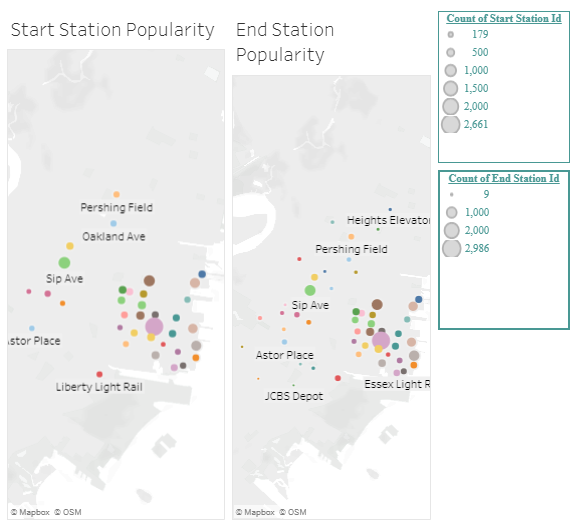

The dashboard page shown, as its layout file describes it:
{"tool":"tableau","page":{"name":"Start/End Stations","canvas":[650,860],"ordinal":0},"visuals":[{"type":"worksheet","title":"Start Station","mark":"Circle","rows":["start station latitude"],"cols":["start station longitude"],"box":[8,11.4,289,837.2]},{"type":"worksheet","title":"End Station","mark":"Automatic","rows":["end station latitude"],"cols":["end station longitude"],"box":[297,11.4,264,837.2]},{"type":"legend","title":"Start Station","param":"[federated.0e9je4l0qs5odr1f3cdv70j36tbk].[cnt:start station id:qk]","box":[561,11.4,81,252.4]},{"type":"legend","title":"End Station","param":"[federated.0e9je4l0qs5odr1f3cdv70j36tbk].[cnt:end station id:qk]","box":[561,263.9,81,265.3]}]}

Visuals, with their boxes on the page's 650x860 design canvas (x1, y1, x2, y2). These are canvas units, not pixel positions in the 575x524 screenshot, which may show the page scaled, cropped or inside an application window:
"Start Station" worksheet (Circle marks): 8,11,297,849
"End Station" worksheet: 297,11,561,849
"Start Station" legend: 561,11,642,264
"End Station" legend: 561,264,642,529
